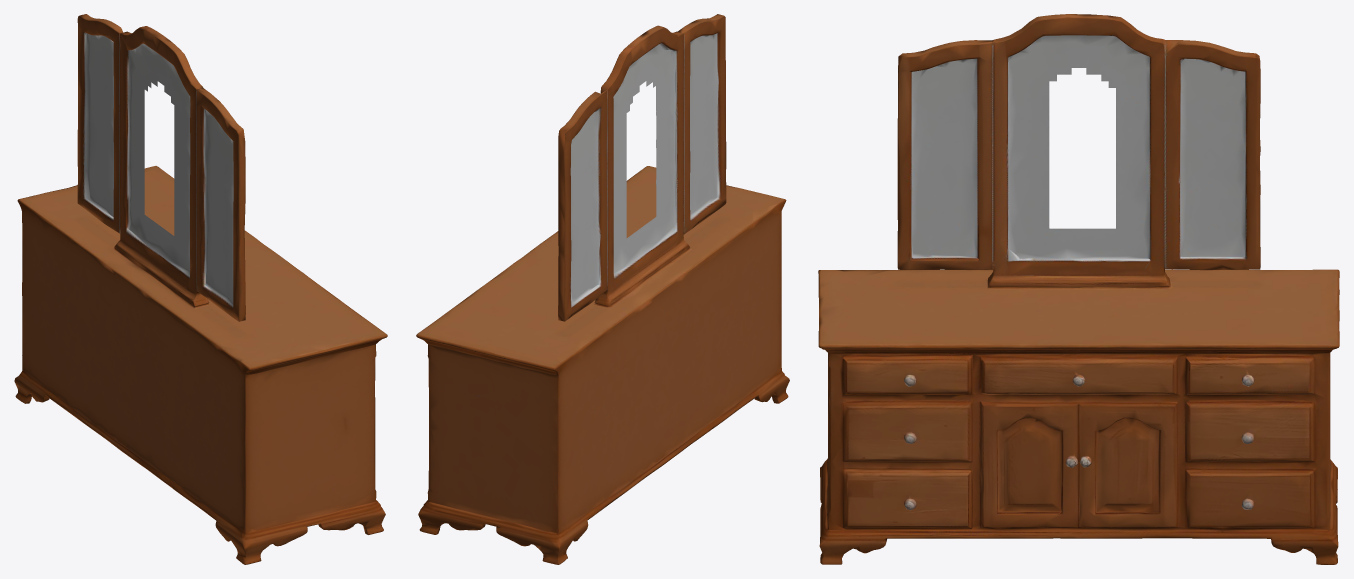
File: 537540f6-308b-431b-a5c5-003c83609d67_model_opt.glb
3 views of the same model, side by side, from view 1: azimuth 30°, elevation 25°; view 2: azimuth 150°, elevation 25°; view 3: azimuth 270°, elevation 25° (orthographic). The views are drawn at different scales.
Parts seen in each view (by area): view 1: tripo_node_2bef58f5-4b87-42eb-b10d-188ce5eee4d2; view 2: tripo_node_2bef58f5-4b87-42eb-b10d-188ce5eee4d2; view 3: tripo_node_2bef58f5-4b87-42eb-b10d-188ce5eee4d2.
Boxes of the visible parts, box(x1,y1,x2,y2) form: tripo_node_2bef58f5-4b87-42eb-b10d-188ce5eee4d2: box(14, 14, 387, 564); tripo_node_2bef58f5-4b87-42eb-b10d-188ce5eee4d2: box(416, 14, 789, 564); tripo_node_2bef58f5-4b87-42eb-b10d-188ce5eee4d2: box(818, 14, 1339, 564).
Bounding box in the file's own units: 0.3541 × 1 × 0.9621.
1 material, 1 textured.
